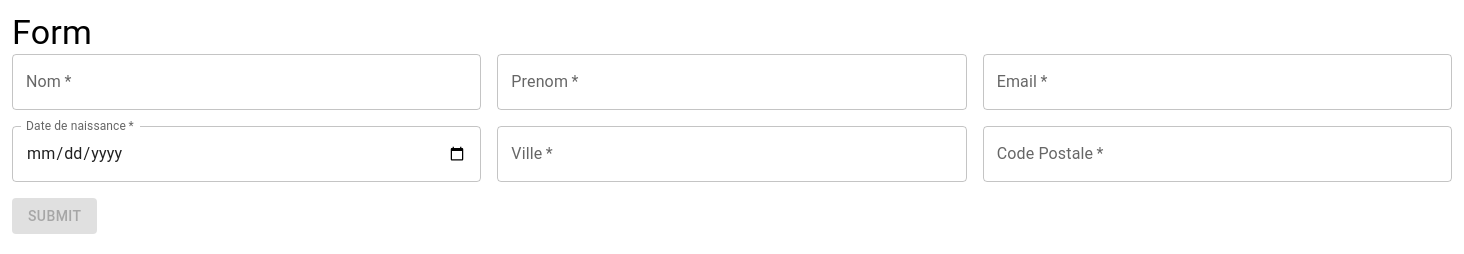
Scenario: Form DOM Interactions › should toggle submit button state based on form completion
expect the button "Submit" is disabled: met, box [12, 198, 97, 234]
Remplir partiellement le formulaire
Type "Martin" into the field labelled "Nom *". click: (247, 82)
box: [12, 54, 481, 110]
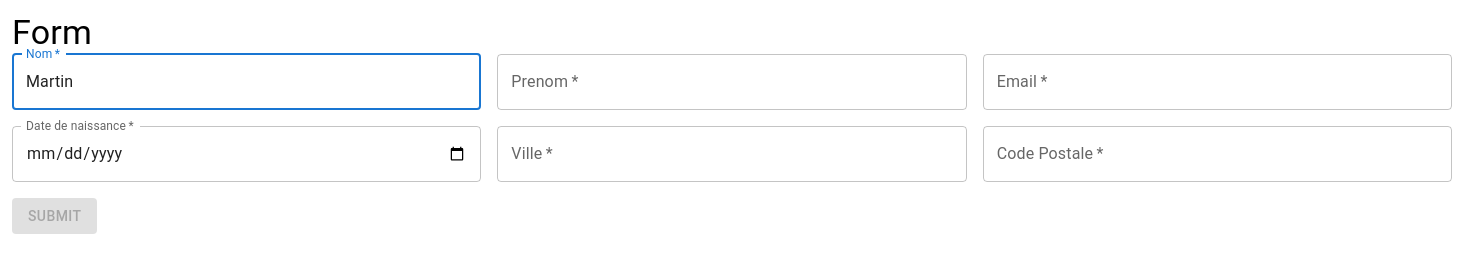
expect the button "Submit" is disabled: met, box [12, 198, 97, 234]
Remplir complètement le formulaire
Type "Jean" into the field labelled "Prenom *". click: (732, 82)
box: [497, 54, 967, 110]
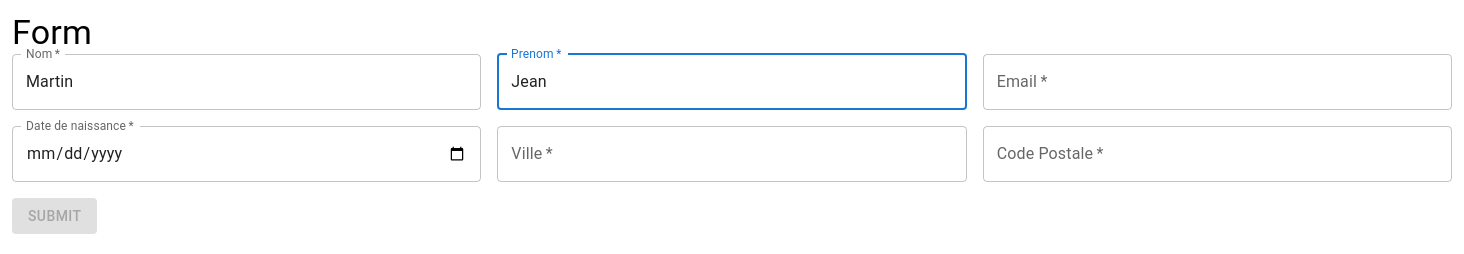
Type "test@test.com" into the field labelled "Email *". click: (1217, 82)
box: [983, 54, 1452, 110]
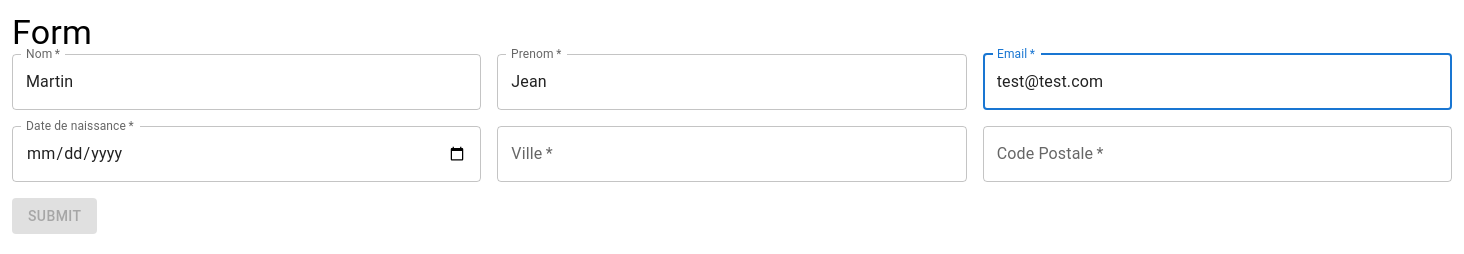
Type "2000-01-01" into the date field labelled "Date de naissance *". click: (247, 154)
box: [12, 126, 481, 182]
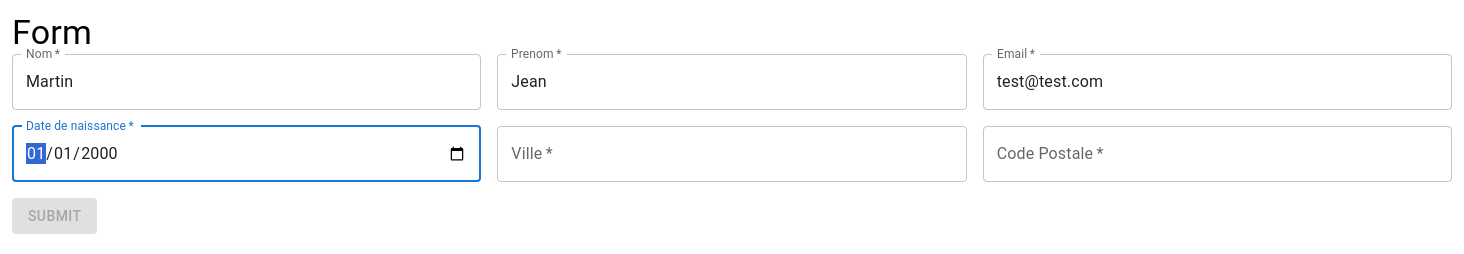
Type "Nice" into the field labelled "Ville *". click: (732, 154)
box: [497, 126, 967, 182]
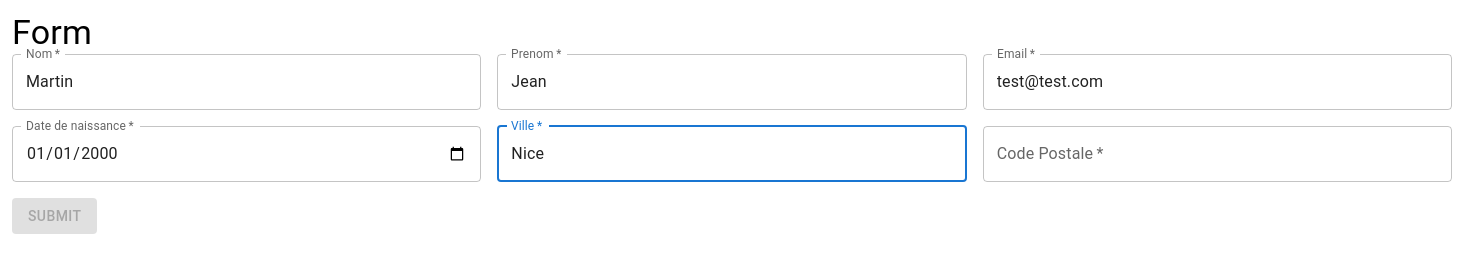
Type "06200" into the field labelled "Code Postale *". click: (1217, 154)
box: [983, 126, 1452, 182]
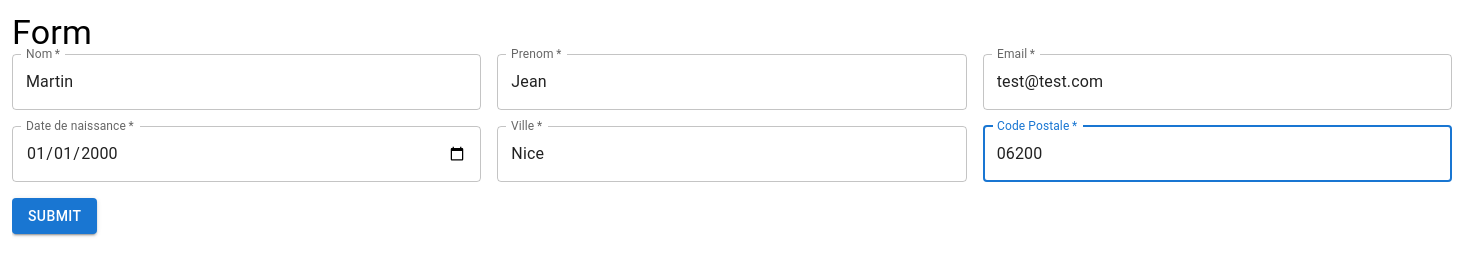
expect the button "Submit" is enabled: met, box [12, 198, 97, 234]
